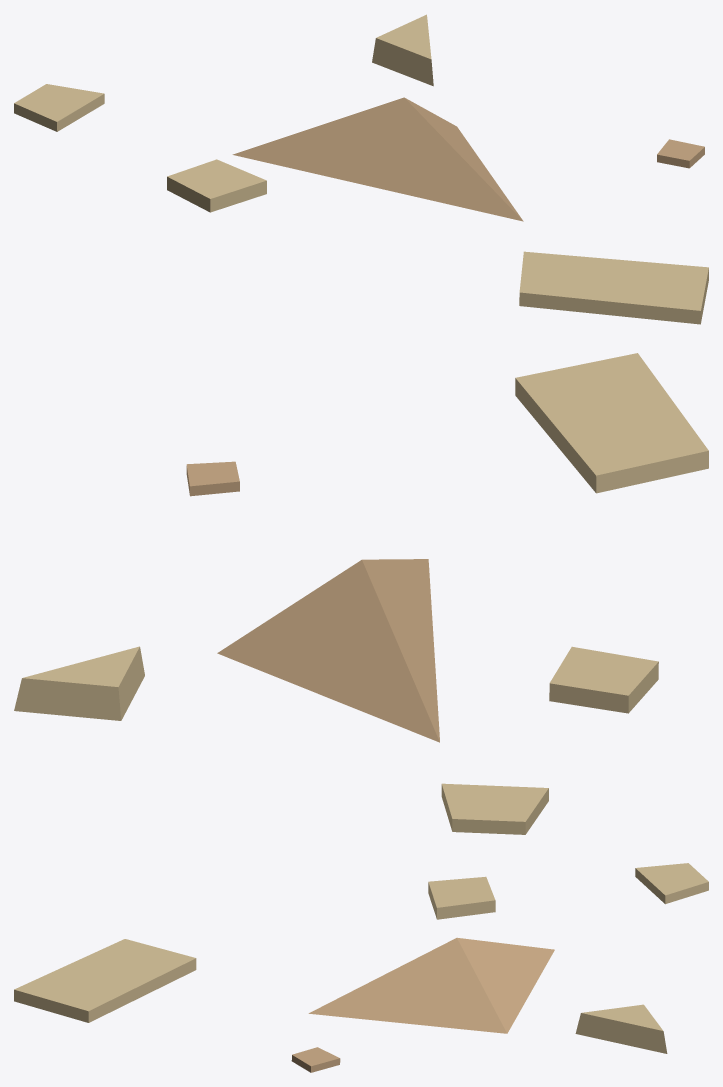
Rendered from Rocks_Flat_s_02.fbx.
3 views of the same model, one above another, from view 1: azimuth 30°, elevation 25°; view 2: azimuth 150°, elevation 25°; view 3: azimuth 270°, elevation 25° (orthographic). The views are drawn at different scales.
Visible parts, largest first — view 1: Rocks_Flat_s_02; view 2: Rocks_Flat_s_02; view 3: Rocks_Flat_s_02.
Part boxes in pixels (bbox=[...]): Rocks_Flat_s_02: bbox=[14, 14, 708, 324]; Rocks_Flat_s_02: bbox=[14, 353, 708, 834]; Rocks_Flat_s_02: bbox=[14, 863, 708, 1072].
Bounding box in the file's own units: 52.01 × 7.35 × 75.5.
